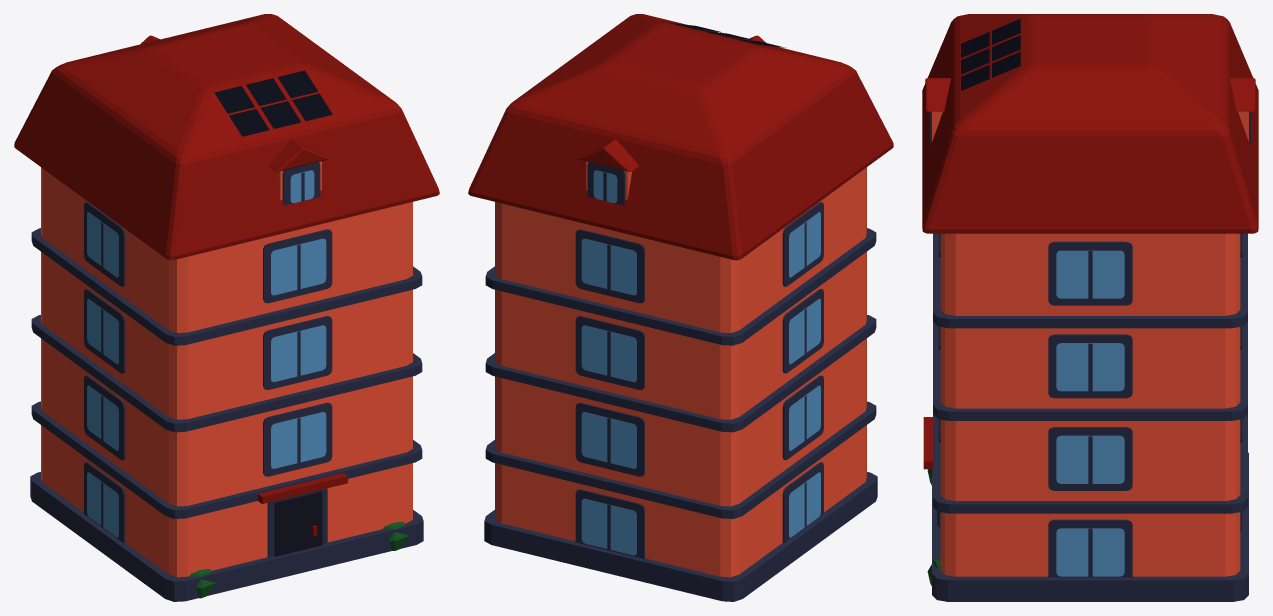
Rendered from house-1x1-4f-mansard-c-solar.glb.
3 renders of one model, left to right at view 1: azimuth 30°, elevation 25°; view 2: azimuth 150°, elevation 25°; view 3: azimuth 270°, elevation 25°, orthographic. The views are drawn at different scales.
Visible parts, largest first — view 1: house-1x1-4f-mansard-c-solar; view 2: house-1x1-4f-mansard-c-solar; view 3: house-1x1-4f-mansard-c-solar.
Part boxes in pixels (x1,y1,x2,y2): house-1x1-4f-mansard-c-solar: [14, 14, 439, 601]; house-1x1-4f-mansard-c-solar: [468, 14, 893, 601]; house-1x1-4f-mansard-c-solar: [922, 14, 1258, 601].
Bounding box in the file's own units: 0.9876 × 1.6 × 0.9876.
Materials: 1 (1 with a texture image).
